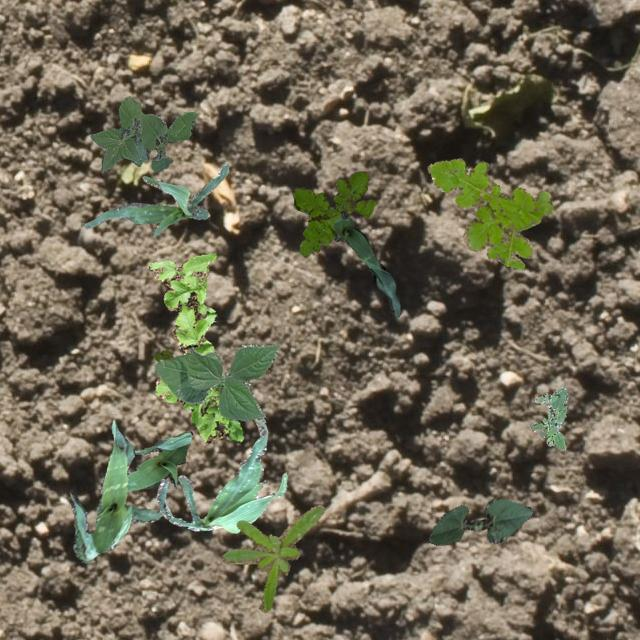crop: (156, 416, 286, 532), (68, 418, 162, 562), (82, 163, 228, 235), (154, 342, 278, 420), (332, 210, 400, 316), (428, 496, 532, 544), (126, 430, 192, 490)
weed: (148, 252, 242, 442), (427, 158, 552, 268), (220, 504, 324, 612), (90, 96, 196, 170), (292, 170, 374, 256), (528, 386, 566, 450), (154, 348, 172, 361)
